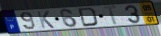3: (125, 4, 142, 24)
6: (60, 8, 79, 28)
9: (20, 12, 37, 31)
D: (77, 7, 100, 28)
K: (36, 11, 56, 29)
T: (102, 5, 120, 26)
